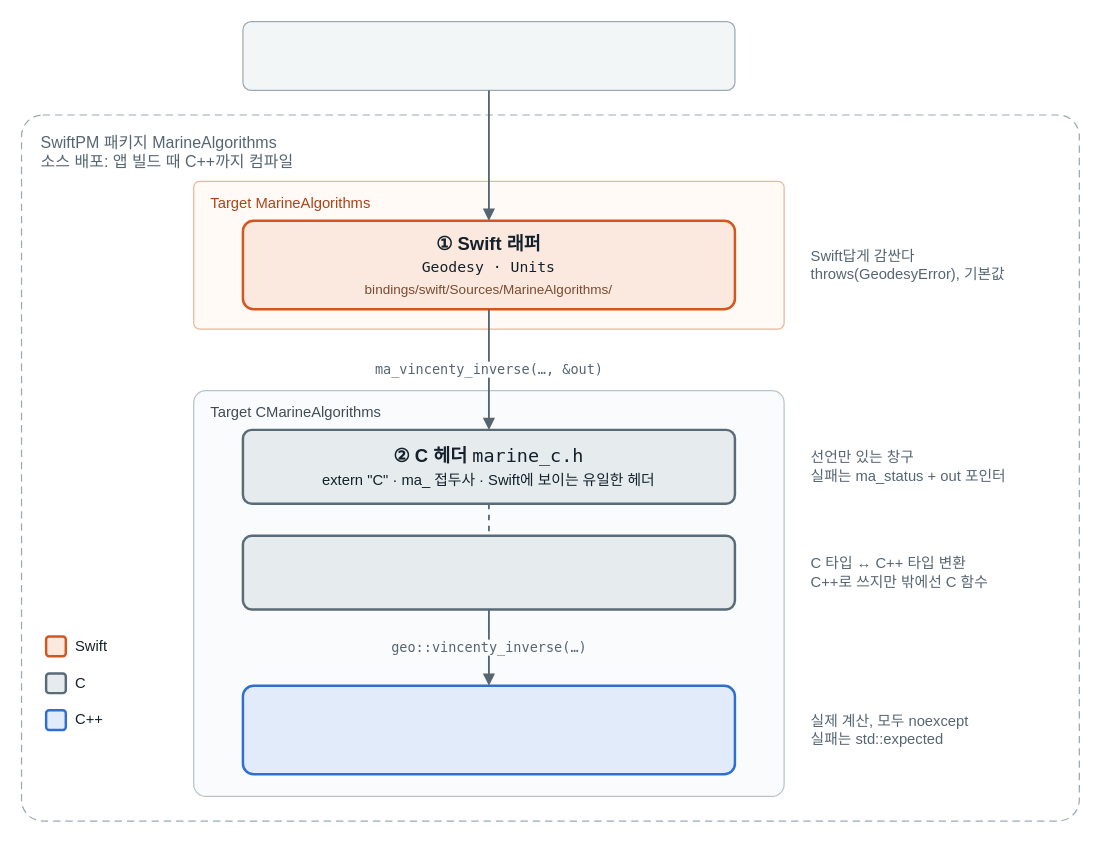
Image size: 1101x843. Some labels were removed from this diagram. Here are the shapes that lost their labels. From the top down, the centre of each, then its label:
At [488,55]: "Swift 앱 import MarineAlgorithms".
At [488,572]: "③ C 다리층 marine_c.cpp to_cpp(…) → 코어 호출 → to_c(…)".
At [488,729]: "④ C++23 코어 marine::geodesy · marine::units include/marine/, src/geodesy/".
